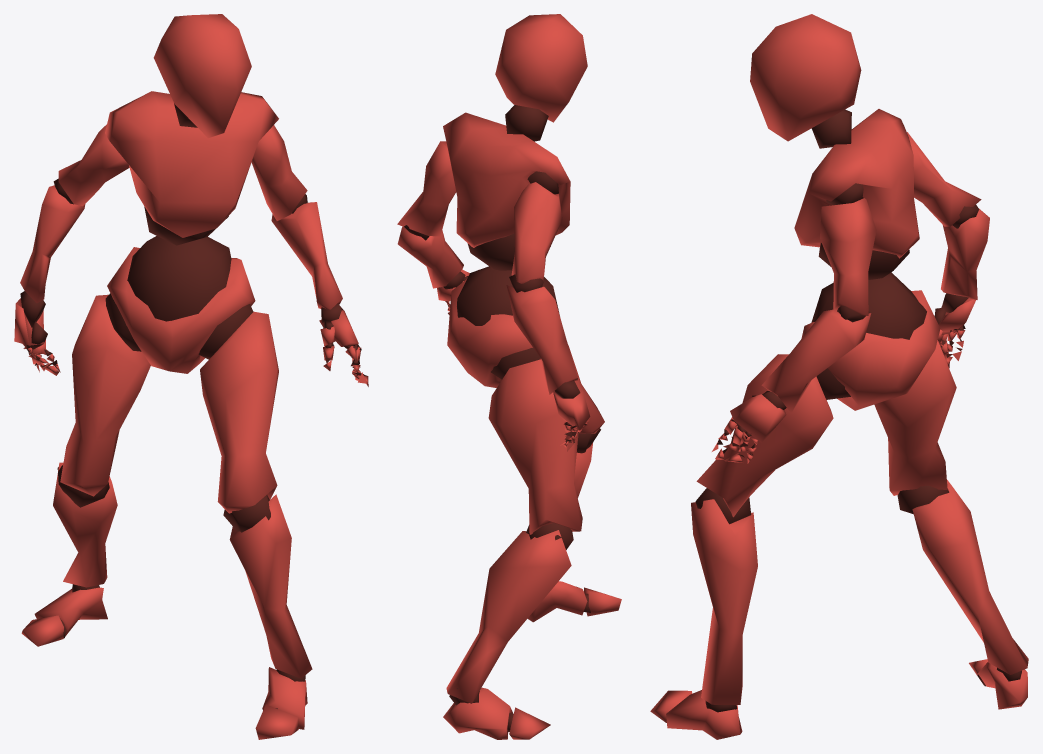
3 views of the same model, side by side, from view 1: azimuth 30°, elevation 25°; view 2: azimuth 150°, elevation 25°; view 3: azimuth 270°, elevation 25° (orthographic). The views are drawn at different scales.
Parts seen in each view (by area): view 1: Beta_Surface; view 2: Beta_Surface; view 3: Beta_Surface.
Part boxes in pixels (x1,y1,x2,y2): Beta_Surface: [14, 14, 368, 739]; Beta_Surface: [397, 14, 621, 739]; Beta_Surface: [650, 14, 1028, 739].
Size of the model in its own units: 5.55 by 14.58 by 7.2.
